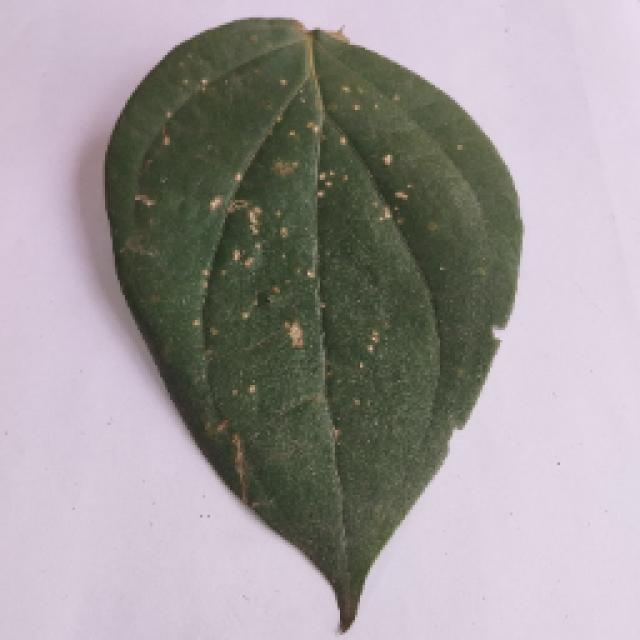pollu-disease: (78, 30, 552, 638)
